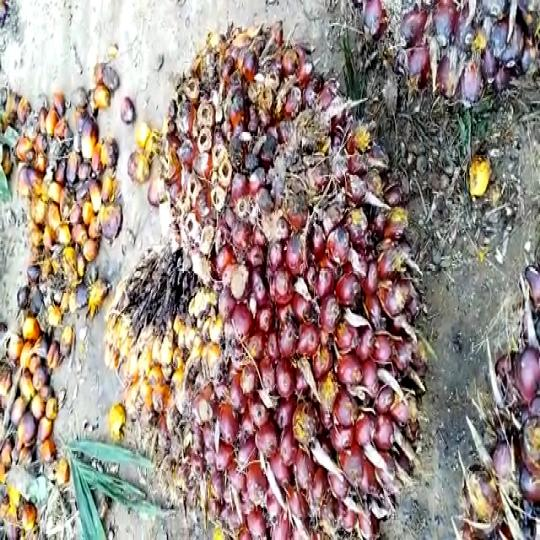kurang masak: (146, 18, 436, 540)
